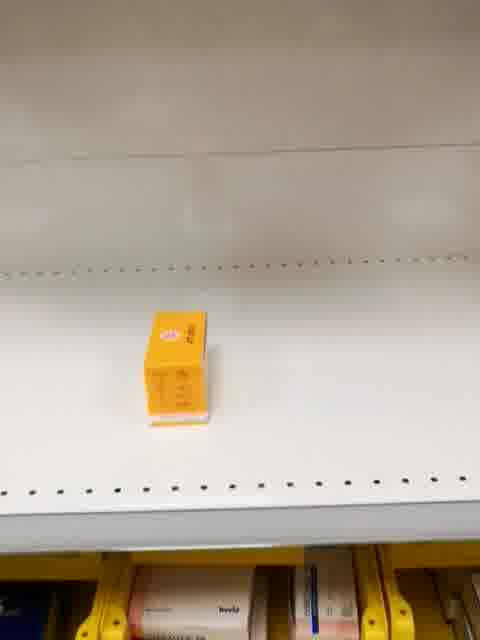jasminetea: (142, 308, 211, 425)
